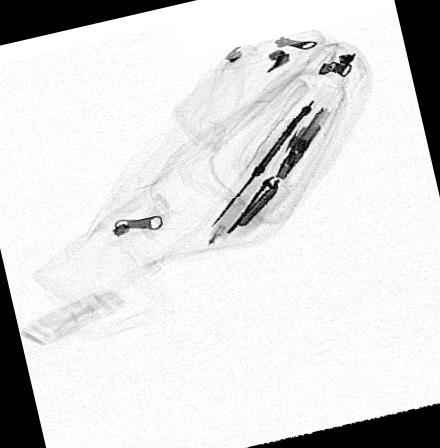Knife: (210, 98, 315, 229)
